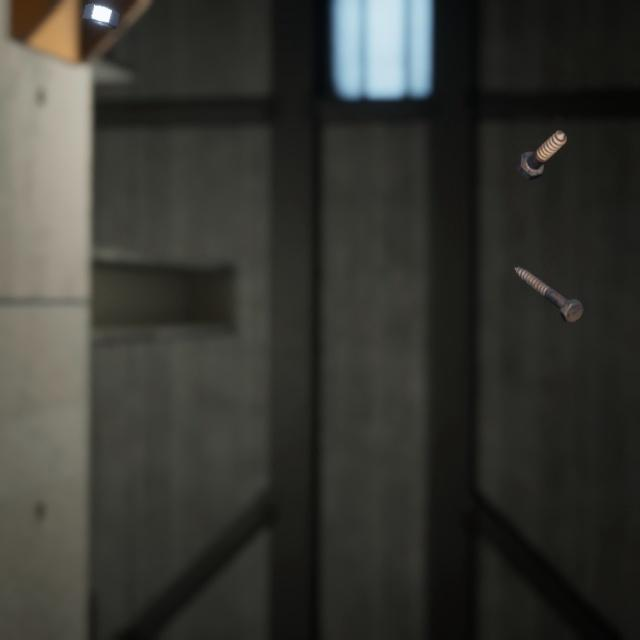bolt: (510, 245, 588, 309), (511, 112, 571, 171)
nut: (78, 0, 124, 24)
